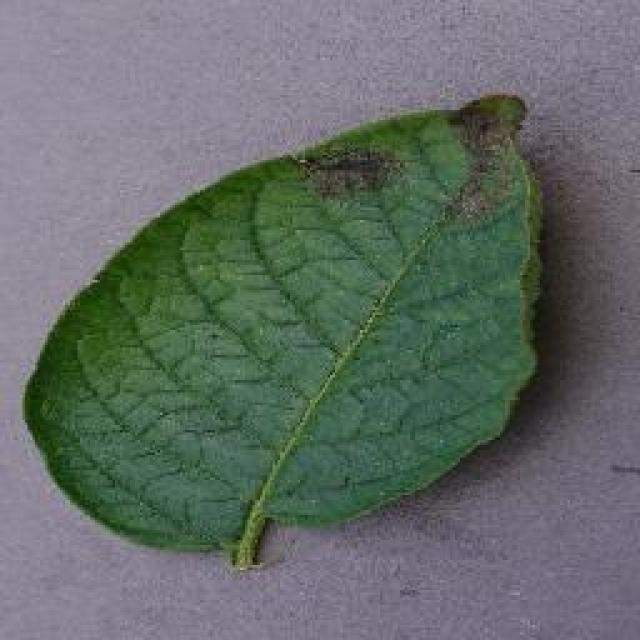late_blight: (18, 88, 550, 570)
